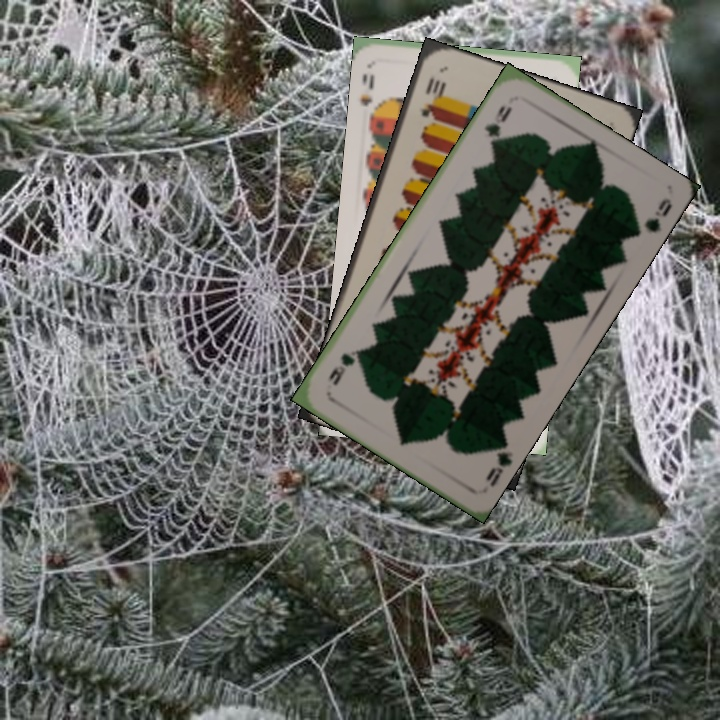E10: (416, 73, 446, 120)
G9: (482, 436, 516, 490), (480, 101, 515, 151)
S9: (356, 70, 382, 122)
